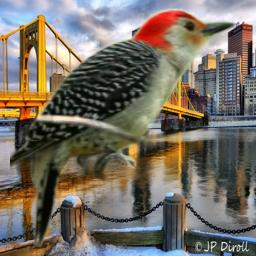Woodpecker: (10, 8, 235, 247)
